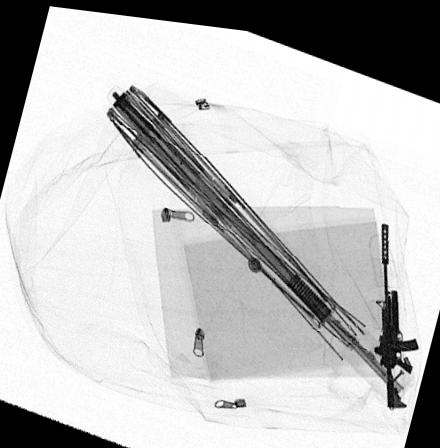Gun: (372, 211, 420, 401)
